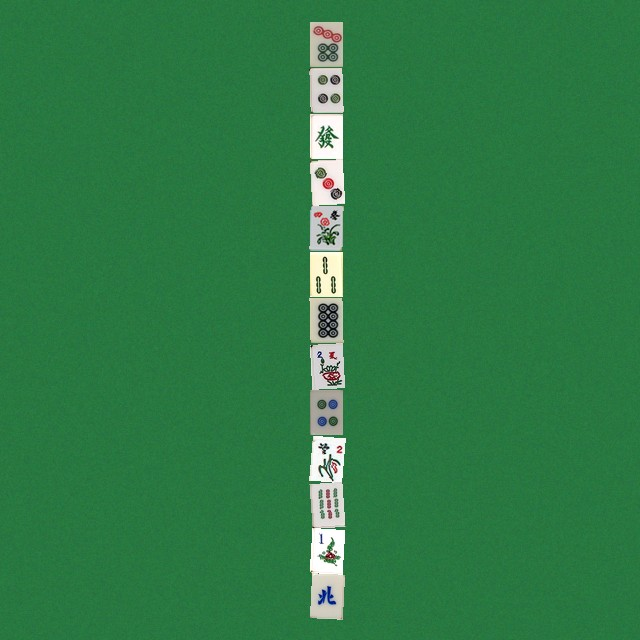tile: (309, 21, 342, 66), (309, 67, 342, 112), (309, 113, 342, 158), (309, 159, 342, 204), (309, 205, 342, 250), (309, 251, 342, 296), (309, 297, 342, 342), (309, 343, 342, 388), (309, 389, 342, 434), (309, 435, 342, 480), (309, 481, 342, 526), (309, 527, 342, 572), (309, 573, 342, 618)
